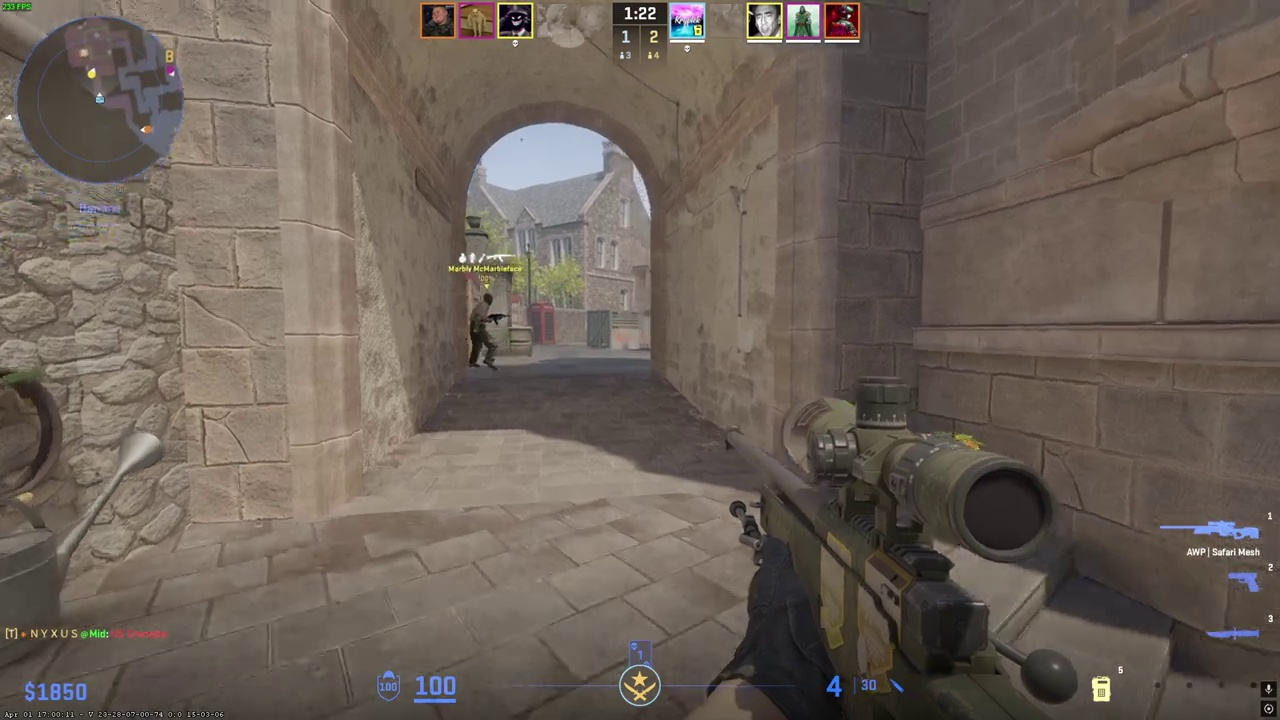Terrorist: (468, 292, 501, 371)
